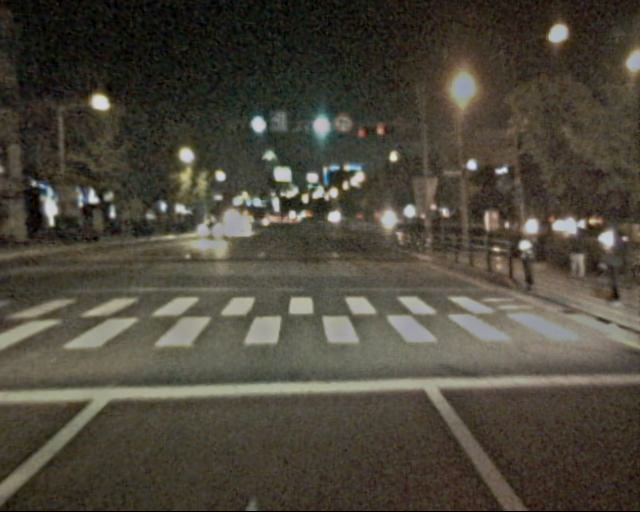person: (588, 219, 629, 302), (506, 223, 543, 298), (559, 222, 591, 285)
